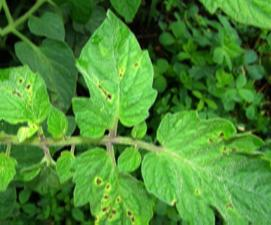Tomato leaf bacterial spot: (134, 109, 271, 225), (66, 6, 162, 141), (66, 146, 163, 225), (0, 64, 49, 132)
